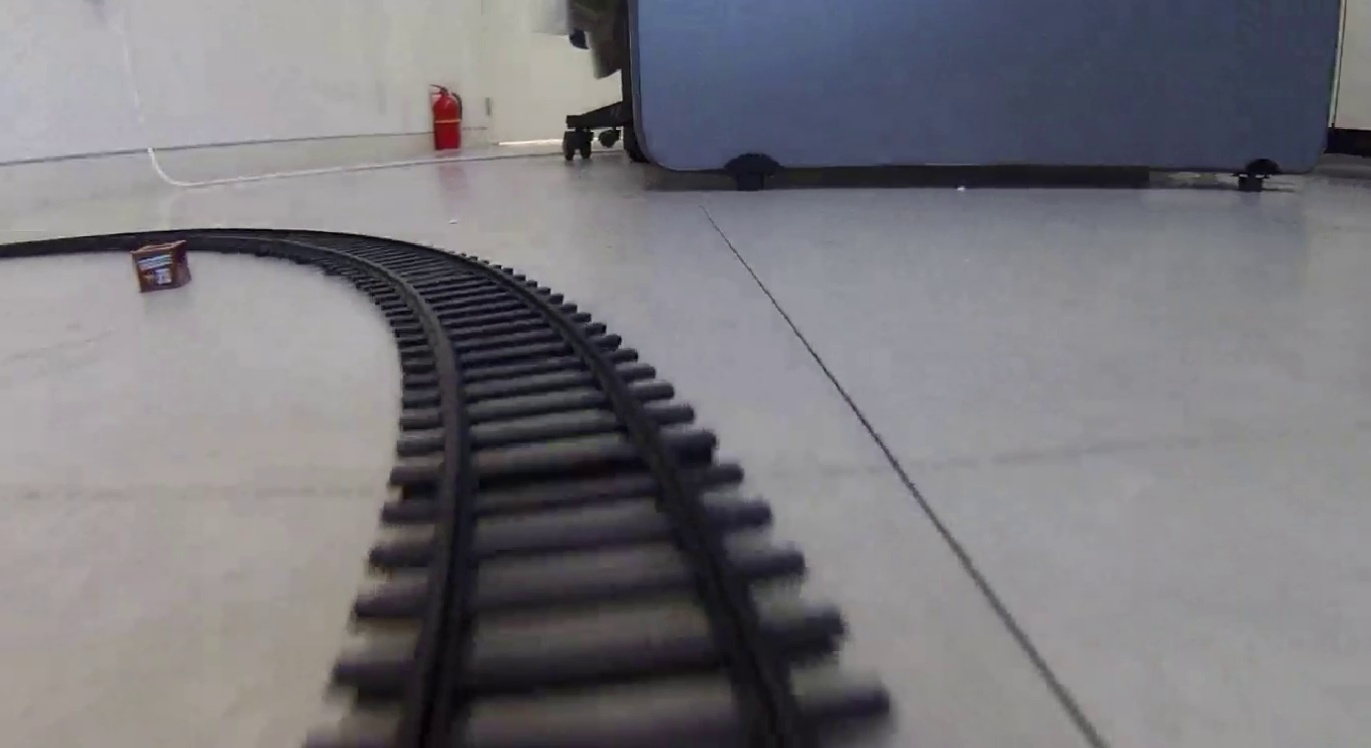box: (131, 239, 196, 295)
